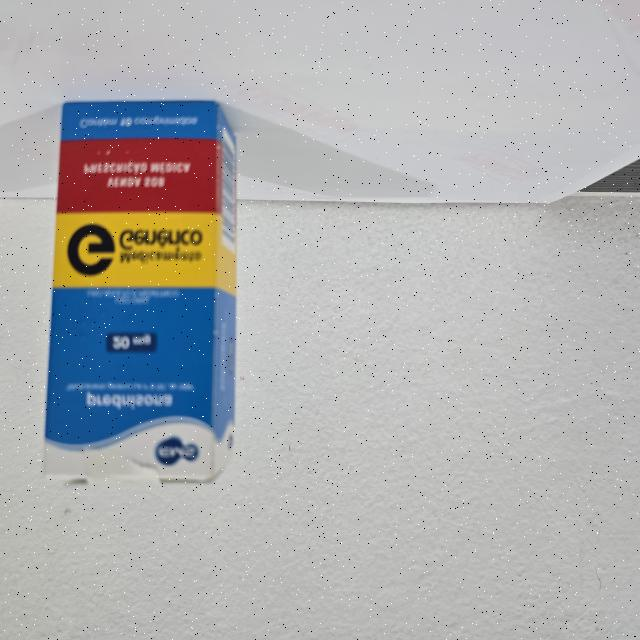prednisona: (38, 96, 242, 493)
